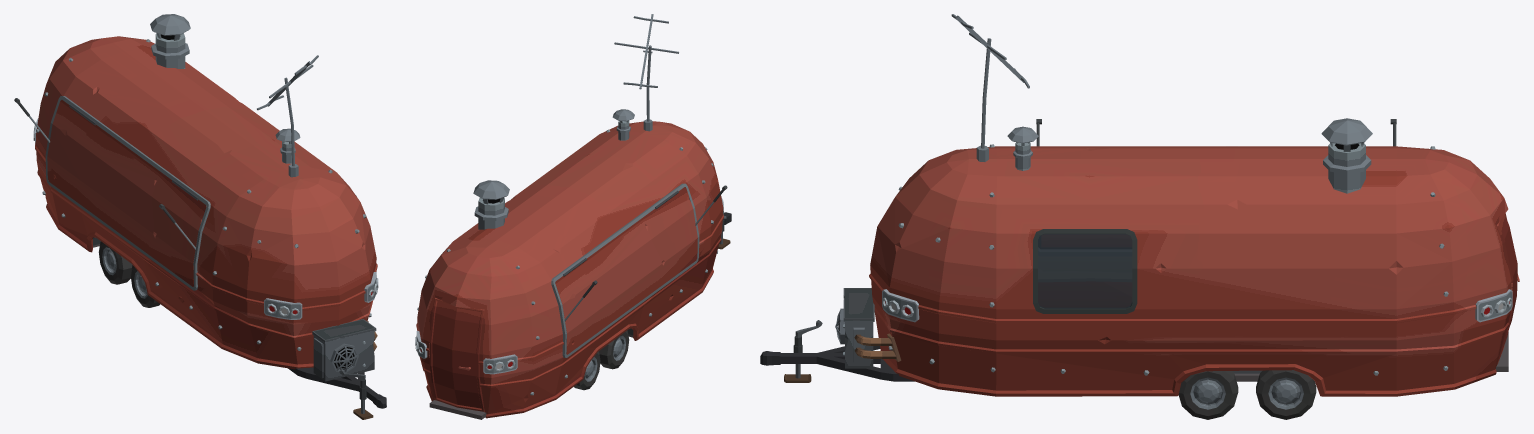
File: redline_pro_foodtruck.glb
3 views of the same model, side by side, from view 1: azimuth 30°, elevation 25°; view 2: azimuth 150°, elevation 25°; view 3: azimuth 270°, elevation 25° (orthographic). The views are drawn at different scales.
Parts seen in each view (by area): view 1: Body, Wheel_RR, Wheel_FR; view 2: Body, Wheel_FR, Wheel_RR; view 3: Body, Glass, Wheel_RL, Wheel_FL.
Boxes of the visible parts, box(x1,y1,x2,y2) form: Body: box(14, 14, 386, 419); Wheel_RR: box(98, 241, 132, 284); Wheel_FR: box(130, 265, 160, 307); Body: box(415, 14, 731, 419); Wheel_FR: box(599, 330, 629, 369); Wheel_RR: box(574, 351, 600, 390); Body: box(760, 14, 1519, 396); Glass: box(1038, 234, 1132, 308); Wheel_RL: box(1256, 370, 1316, 419); Wheel_FL: box(1178, 371, 1238, 419).
Size of the model in its own units: 1.53 by 2.38 by 4.4.
Materials: 3 (2 with a texture image).
